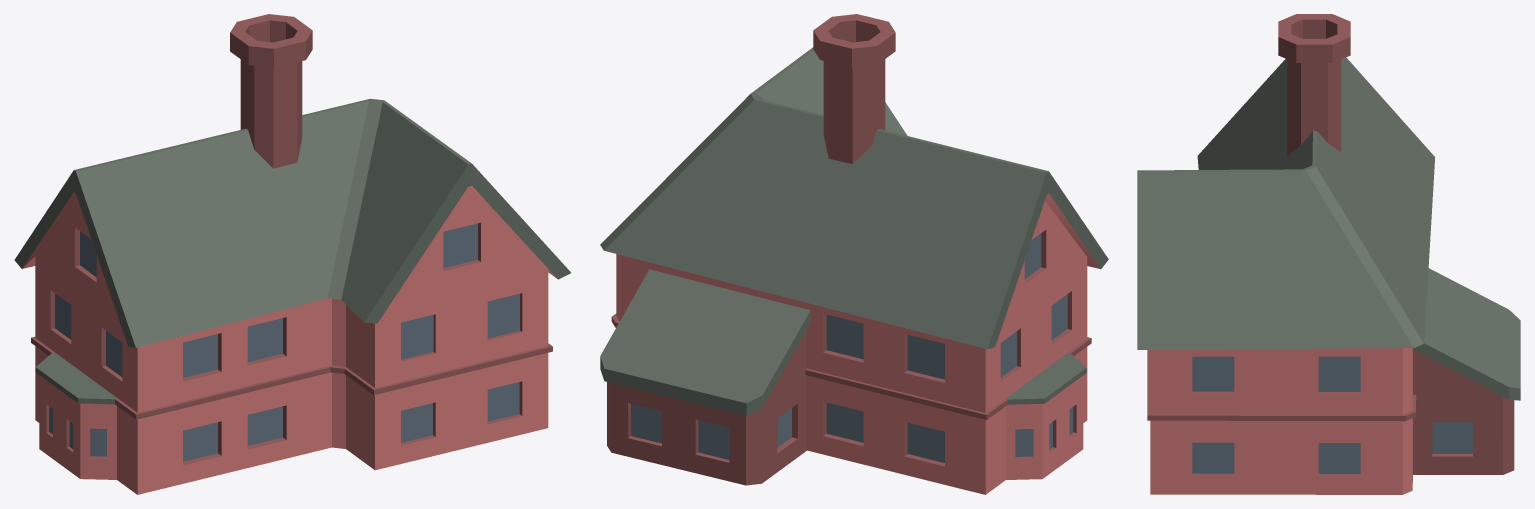
File: SM_Cottage.gltf
3 renders of one model, left to right at view 1: azimuth 30°, elevation 25°; view 2: azimuth 150°, elevation 25°; view 3: azimuth 270°, elevation 25°, orthographic. The views are drawn at different scales.
Visible parts, largest first — view 1: node-0; view 2: node-0; view 3: node-0.
Boxes of the visible parts, box(x1,y1,x2,y2) form: node-0: box(14, 14, 570, 494); node-0: box(600, 14, 1108, 494); node-0: box(1137, 14, 1520, 494).
Bounding box in the file's own units: 14.55 × 12.58 × 11.7.
